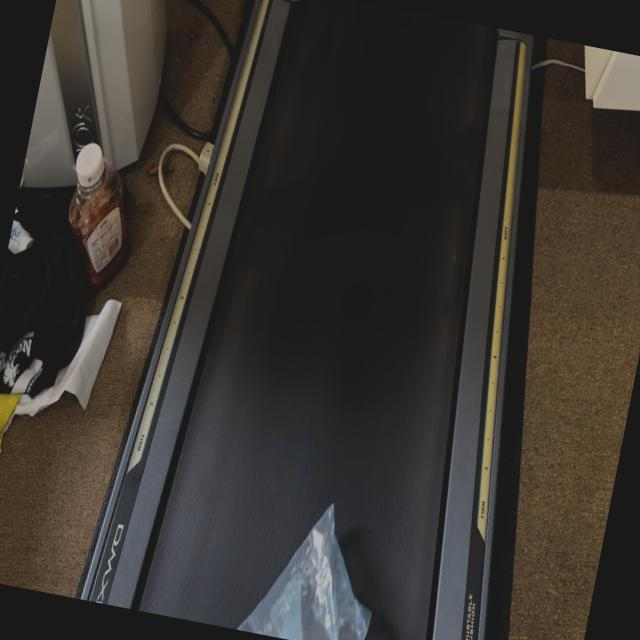Trash: (229, 488, 392, 640)
